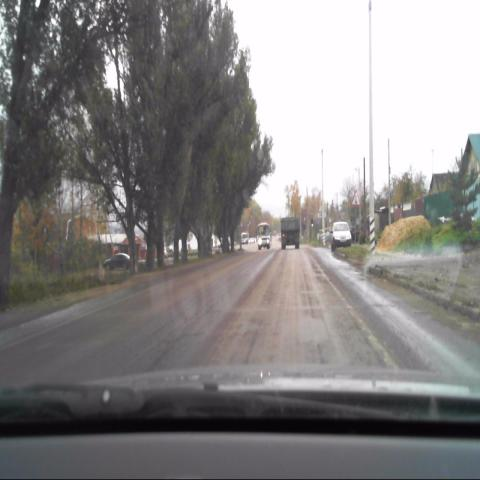1_8: (350, 189, 361, 205)
